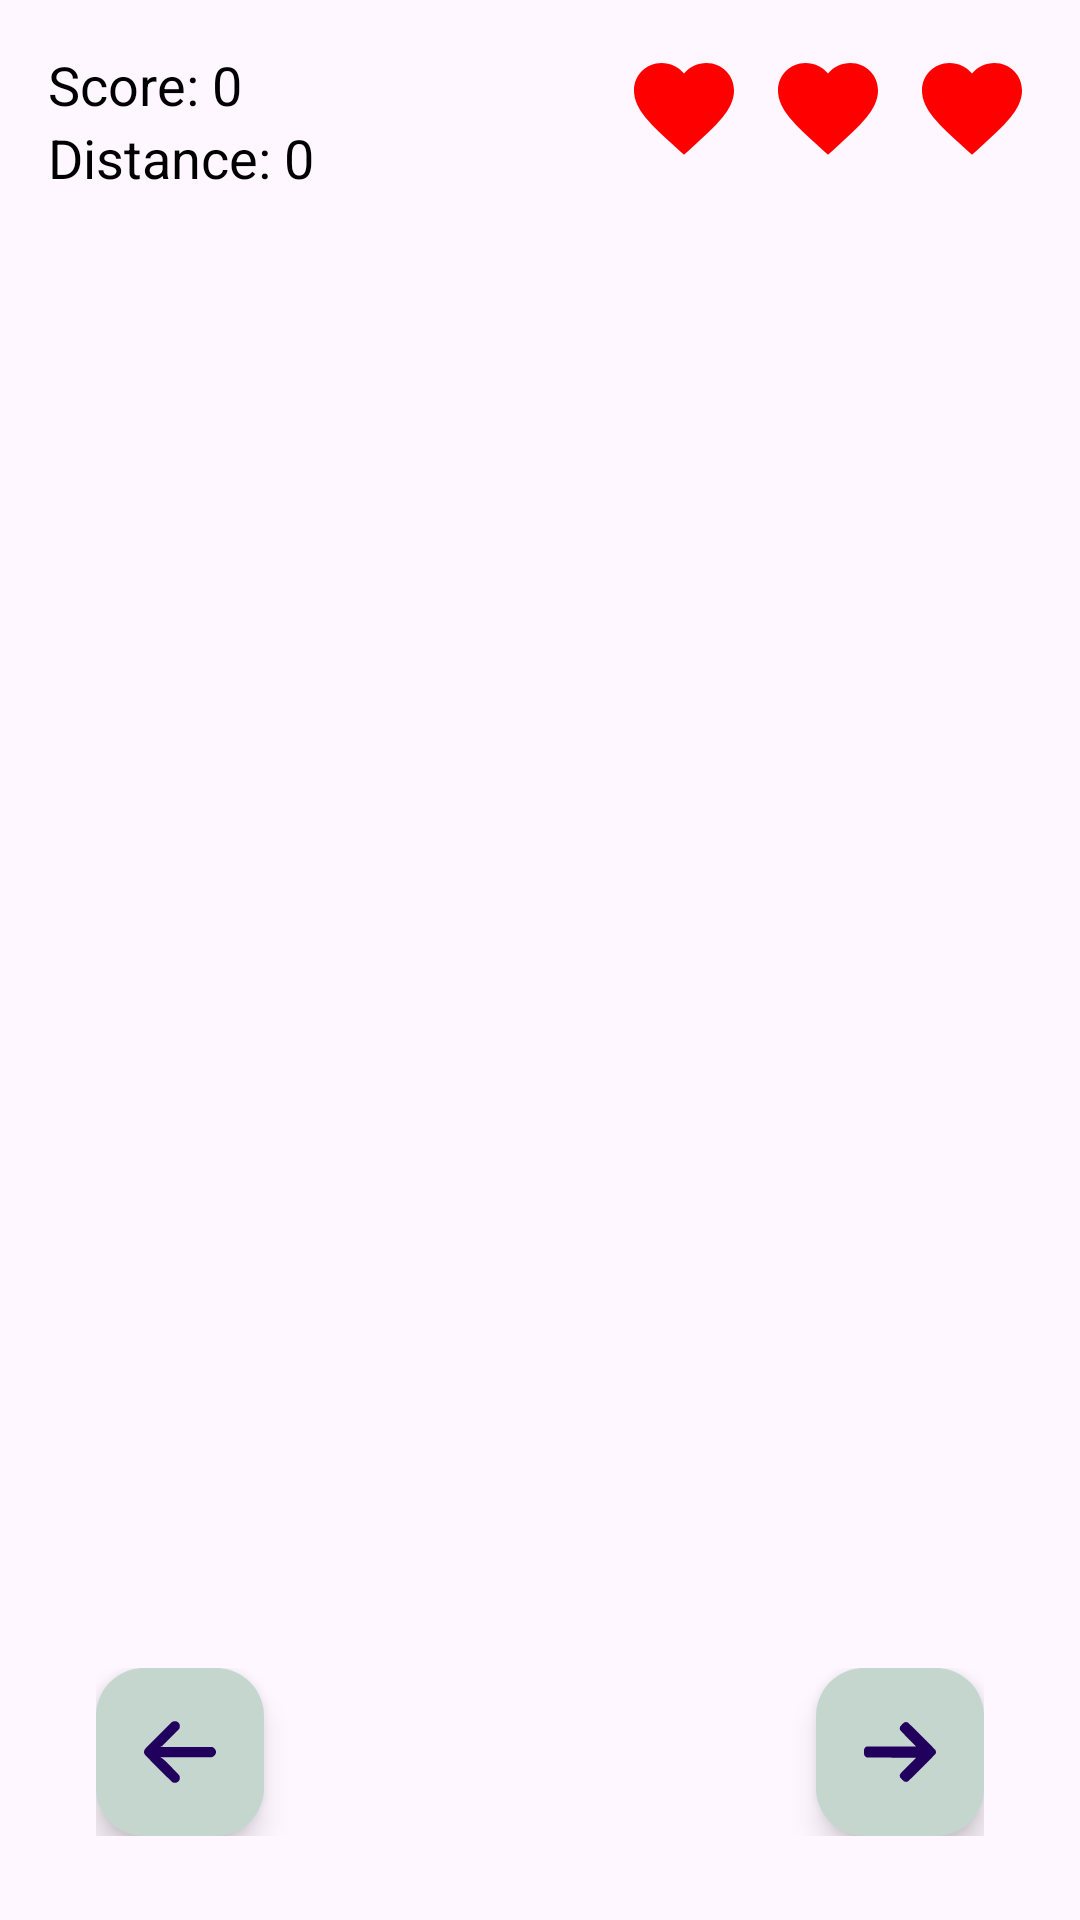

Named icons in this screenshot (1080x1920) and their centers, (x=x, y=y):
heart: (x=684, y=109), (x=828, y=109), (x=972, y=109)
Move left: (x=180, y=1752)
Move right: (x=900, y=1752)
